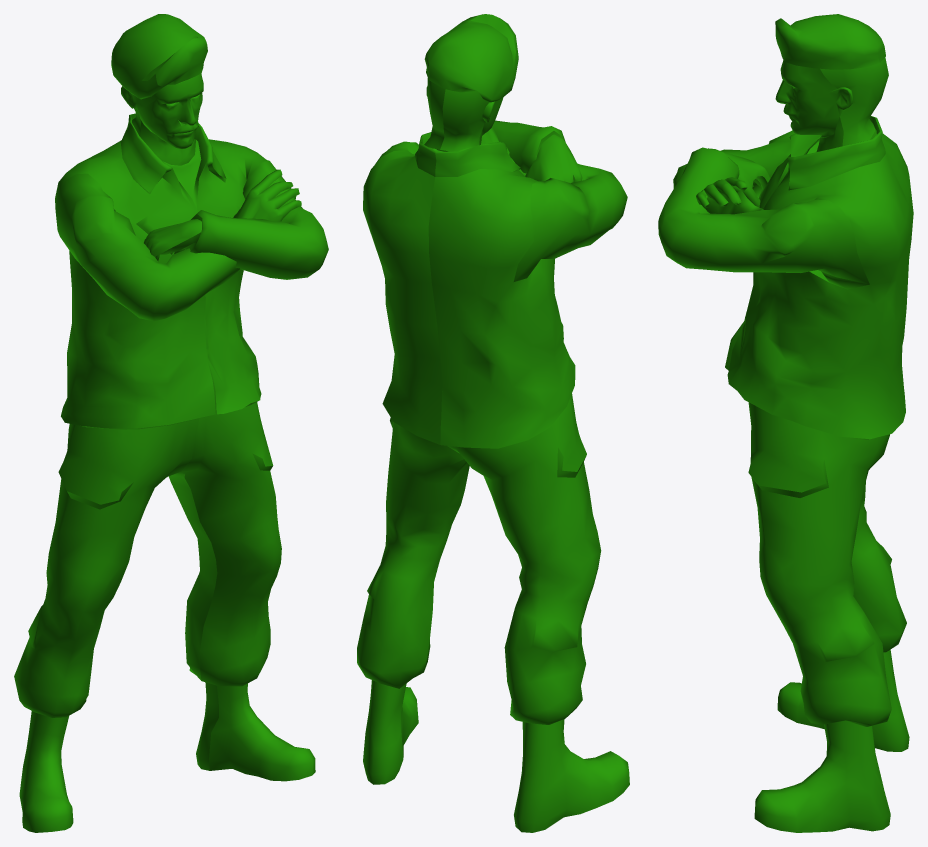
Rendered from Doll 2.FBX.
3 renders of one model, left to right at view 1: azimuth 30°, elevation 25°; view 2: azimuth 150°, elevation 25°; view 3: azimuth 270°, elevation 25°, orthographic. The views are drawn at different scales.
Visible parts, largest first — view 1: Doll 2; view 2: Doll 2; view 3: Doll 2.
Part boxes in pixels (box(x1,y1,x2,y2)): Doll 2: box(14, 14, 328, 832); Doll 2: box(357, 14, 629, 832); Doll 2: box(658, 14, 913, 832).
Size of the model in its own units: 7 by 19.37 by 5.76.
Materials: 1 (1 with a texture image).
